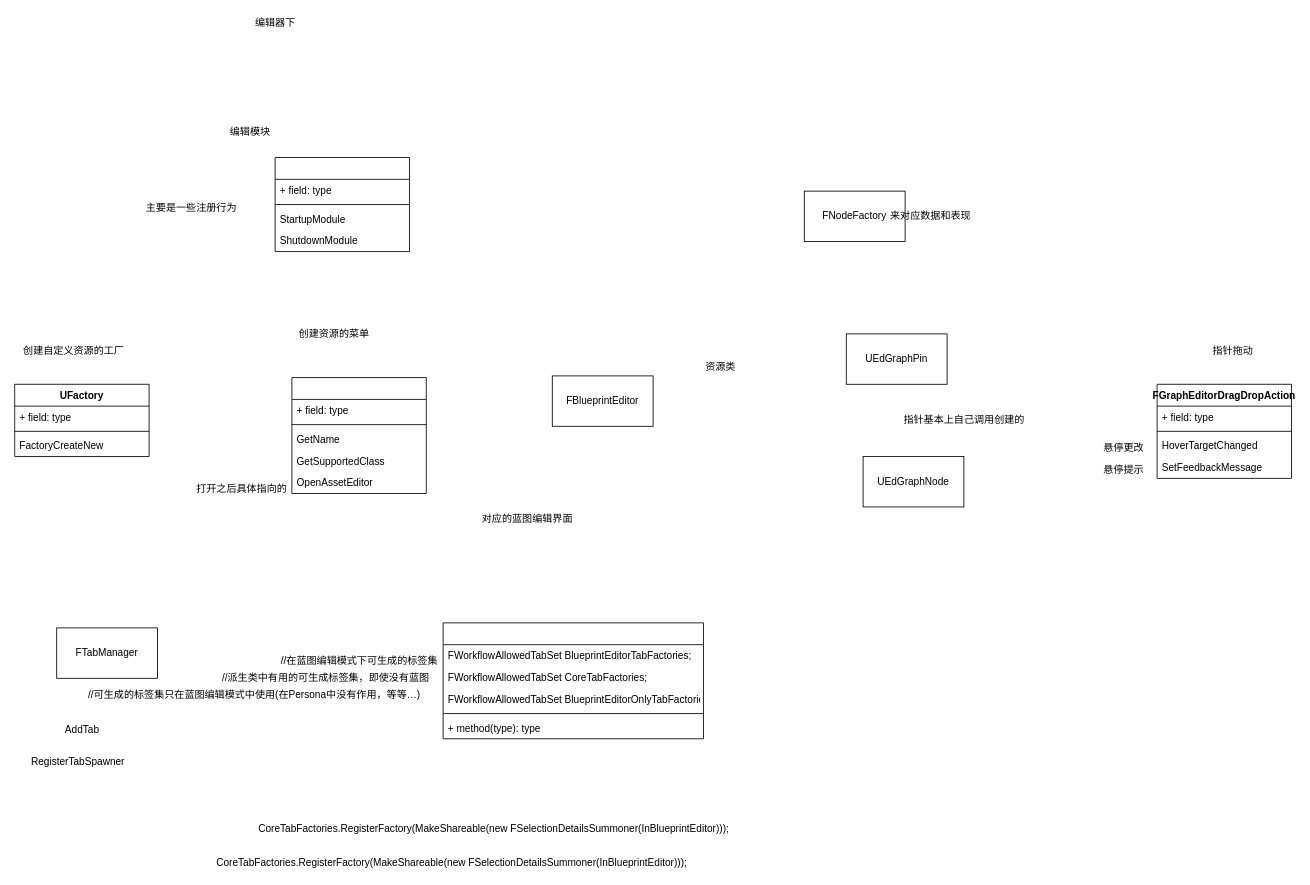
Image size: 1310x885. Some labels were removed from this diagram. The box of each missing label's shape, as (x1, y1, x2, y2) in pixels:
FBlueprintEditorApplicationMode: (442, 622, 704, 739)
FSMAssetTypeActions_Base: (291, 377, 426, 494)
ISMSystemEditorModule: (274, 157, 410, 252)
